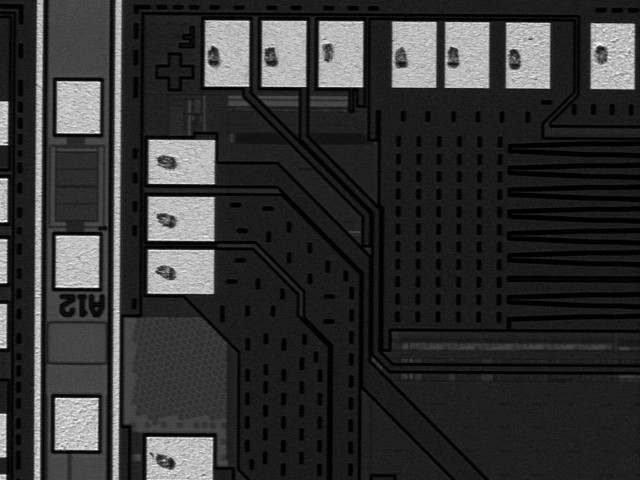shift: (141, 191, 219, 246), (585, 18, 640, 95), (500, 18, 555, 94), (257, 16, 310, 93), (142, 136, 219, 188), (201, 15, 253, 92), (387, 17, 440, 92), (441, 17, 493, 92), (142, 247, 219, 297), (315, 17, 366, 92), (140, 432, 218, 480)
